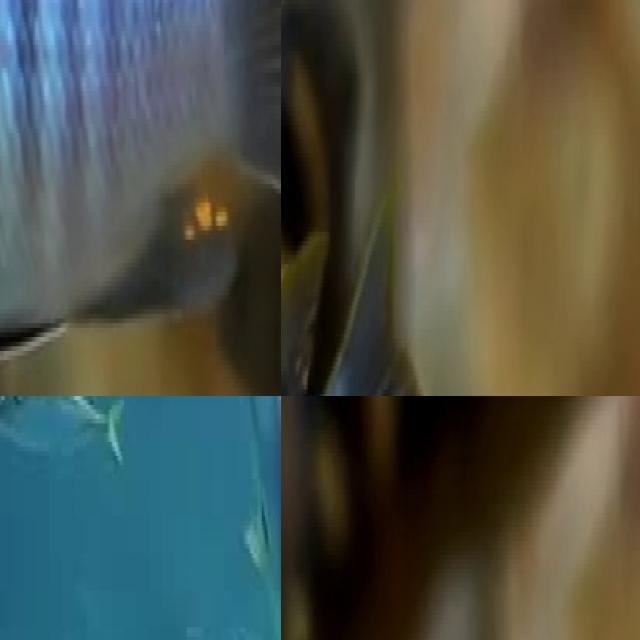fish: (0, 0, 281, 396), (281, 236, 477, 396)
